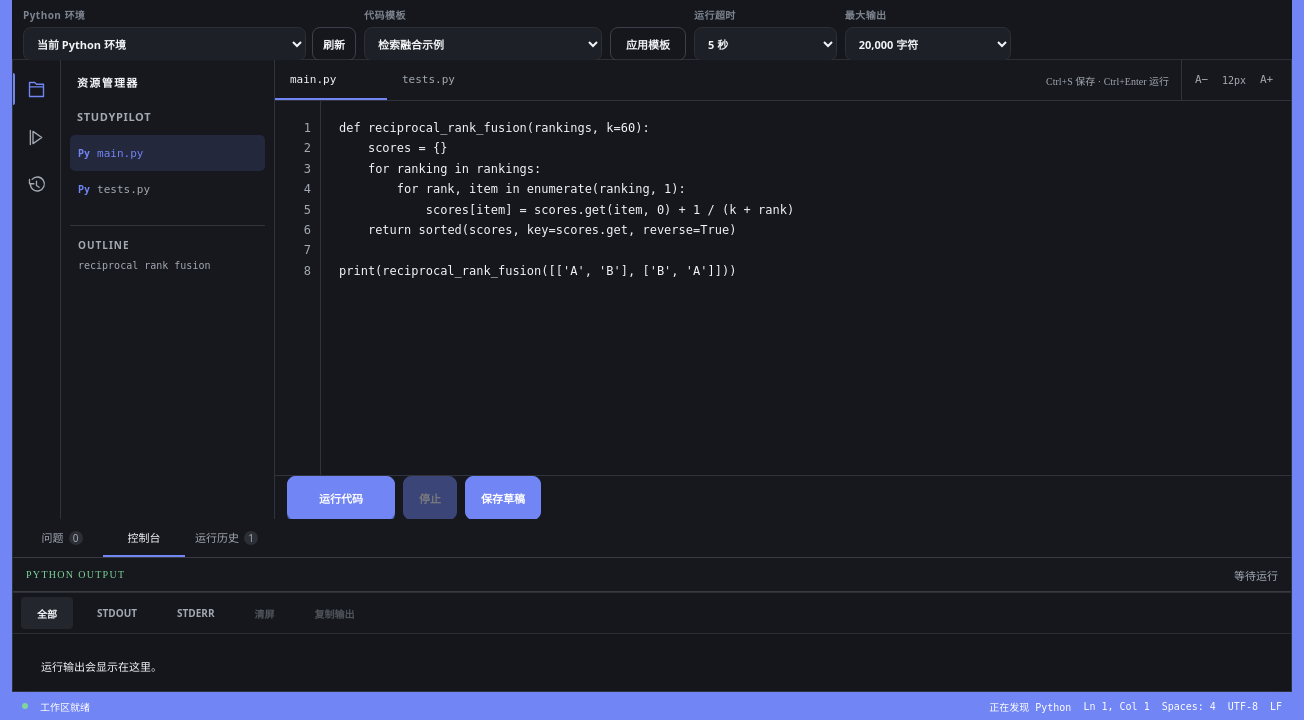
Test case: cannot restore history over an active run
Click the button "运行代码": click(341, 498) [287, 476, 395, 520]
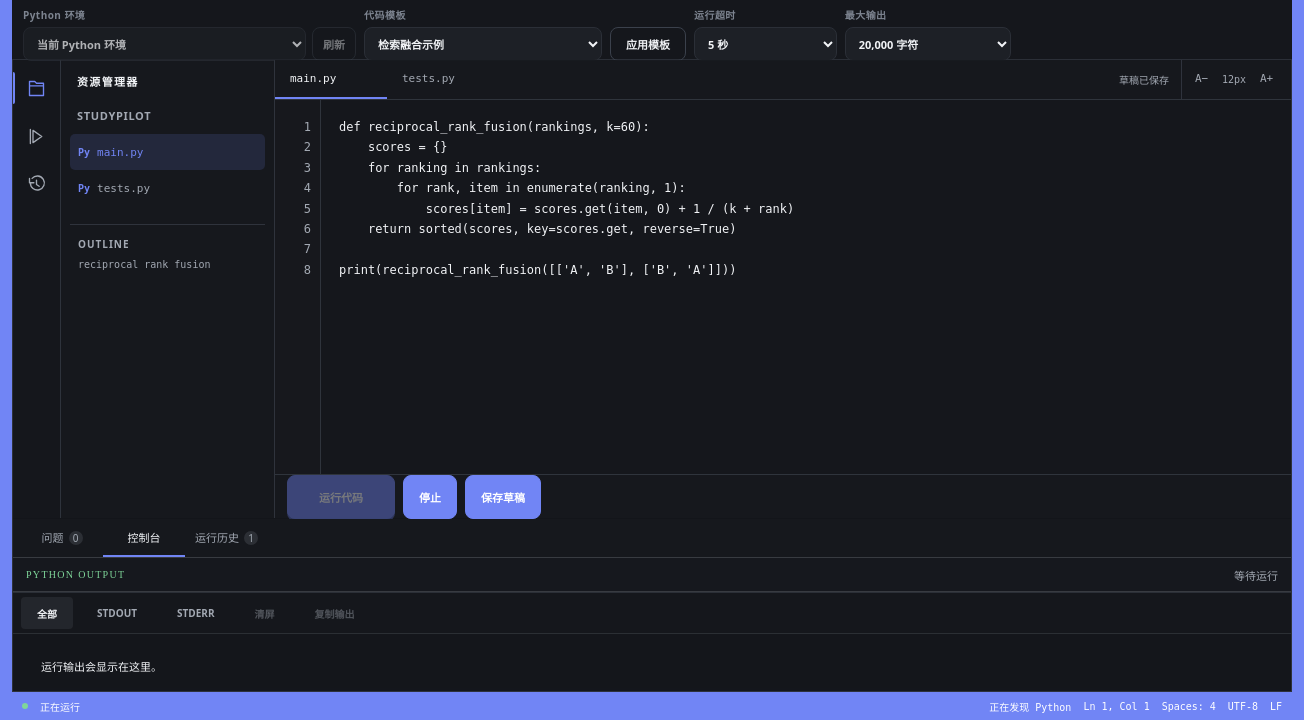
Expected: the text "正在运行" is shown, [40, 698, 80, 714]
